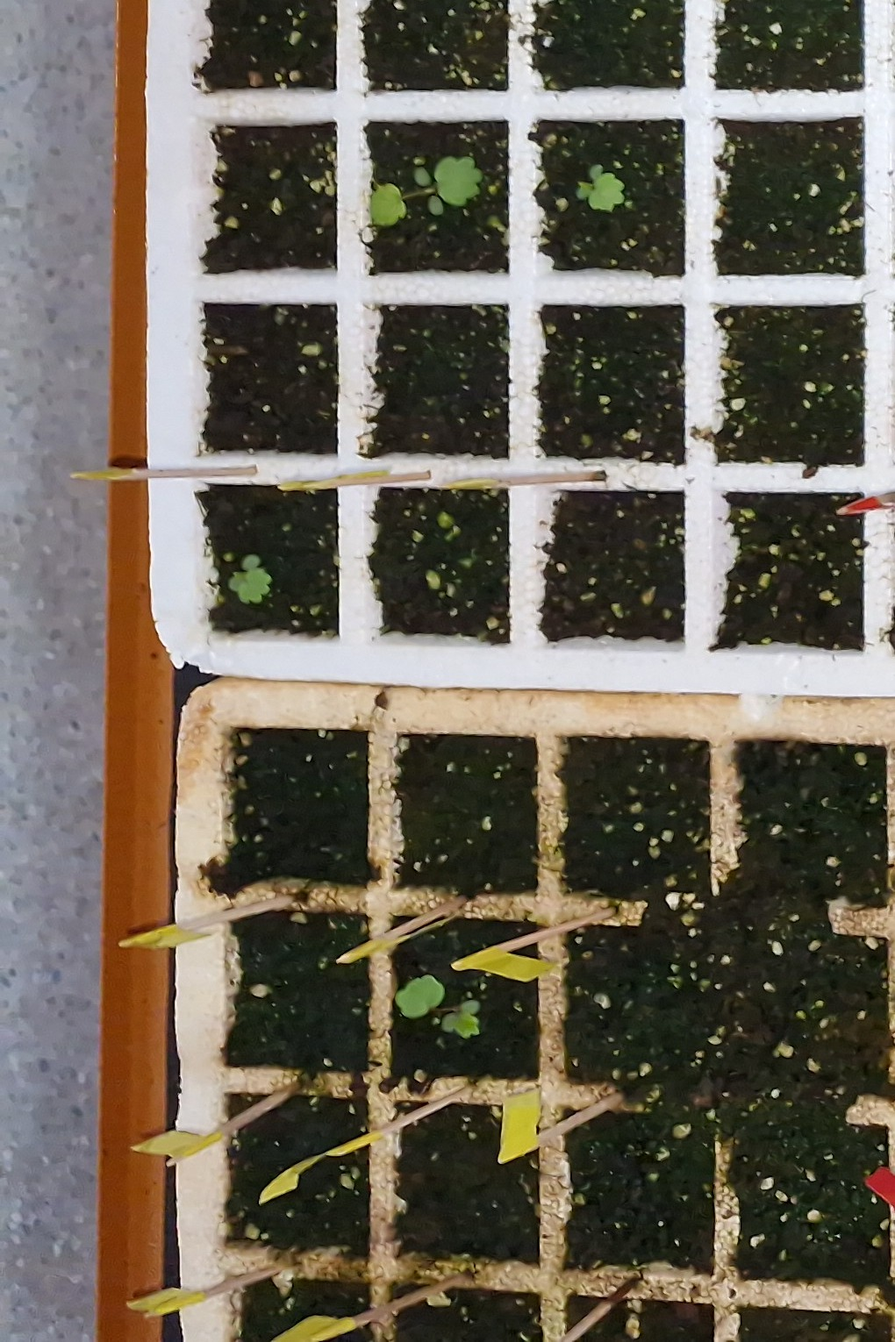Folha: (434, 157, 482, 206), (588, 173, 626, 213), (371, 183, 406, 225), (238, 569, 272, 604), (229, 571, 247, 590), (415, 167, 431, 186), (429, 195, 443, 216), (242, 555, 259, 571), (577, 184, 590, 199), (591, 165, 602, 179)
Germinacao: (371, 156, 482, 226), (576, 165, 624, 212), (228, 555, 271, 605)
